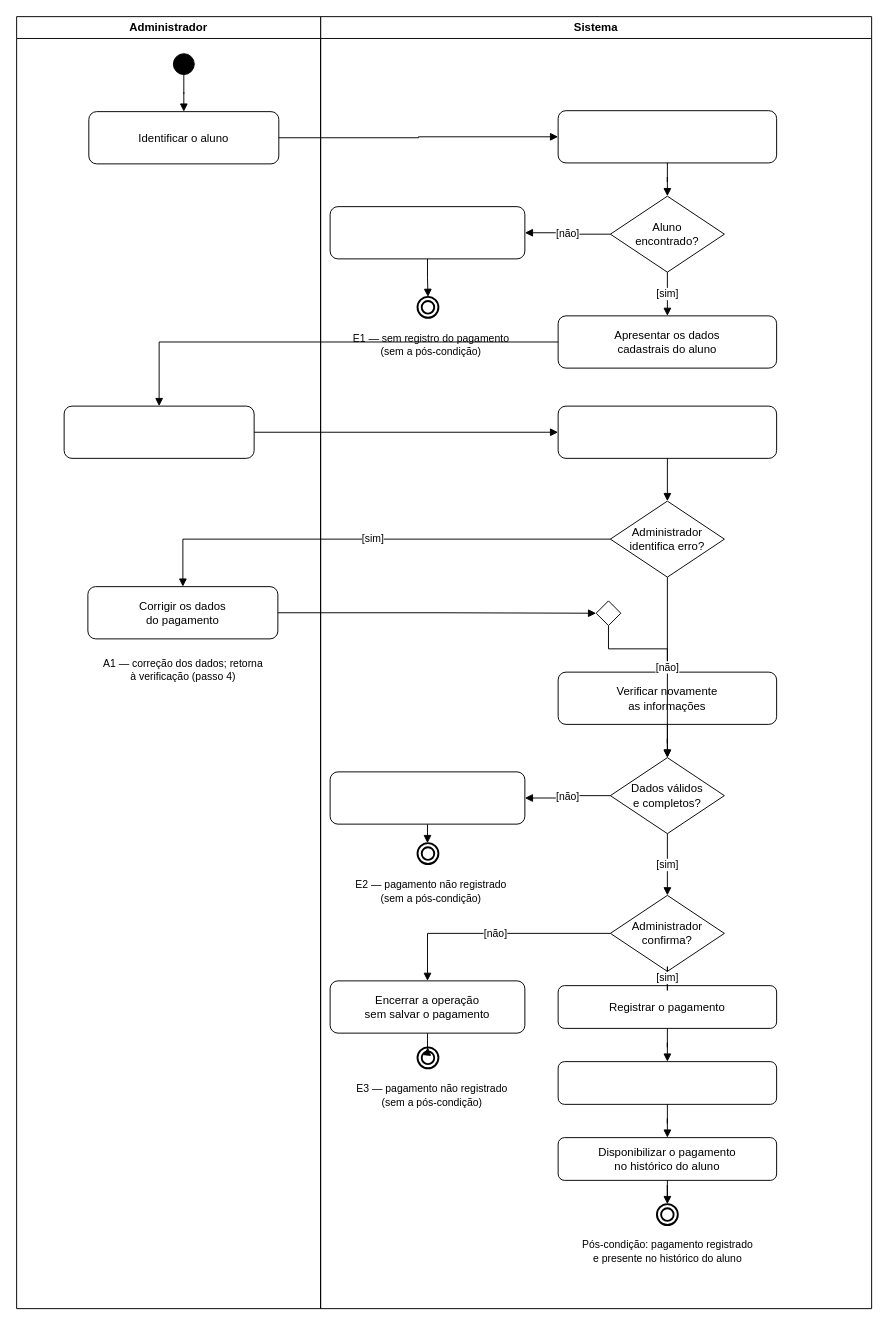
This 888x1325 diagram has some shape labels left out. The box of each missing label's shape, as (x1, y1, x2, y2) in pixels:
Atualizar a situação da mensalidade: (557, 1061, 777, 1104)
Informar os dados do pagamento: (63, 405, 254, 458)
Informar que o aluno não foi encontrado: (329, 206, 525, 259)
Informar que os dados são inválidos ou incompletos: (329, 771, 525, 824)
Localizar o cadastro do aluno: (557, 110, 777, 163)
Verificar as informações fornecidas: (557, 405, 777, 458)
